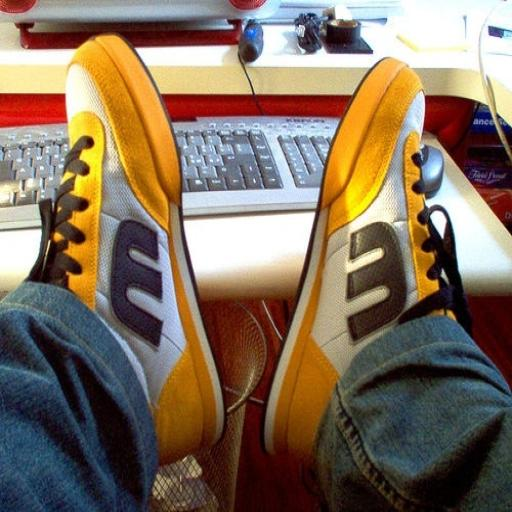shoe: (30, 35, 224, 463), (263, 58, 465, 460)
